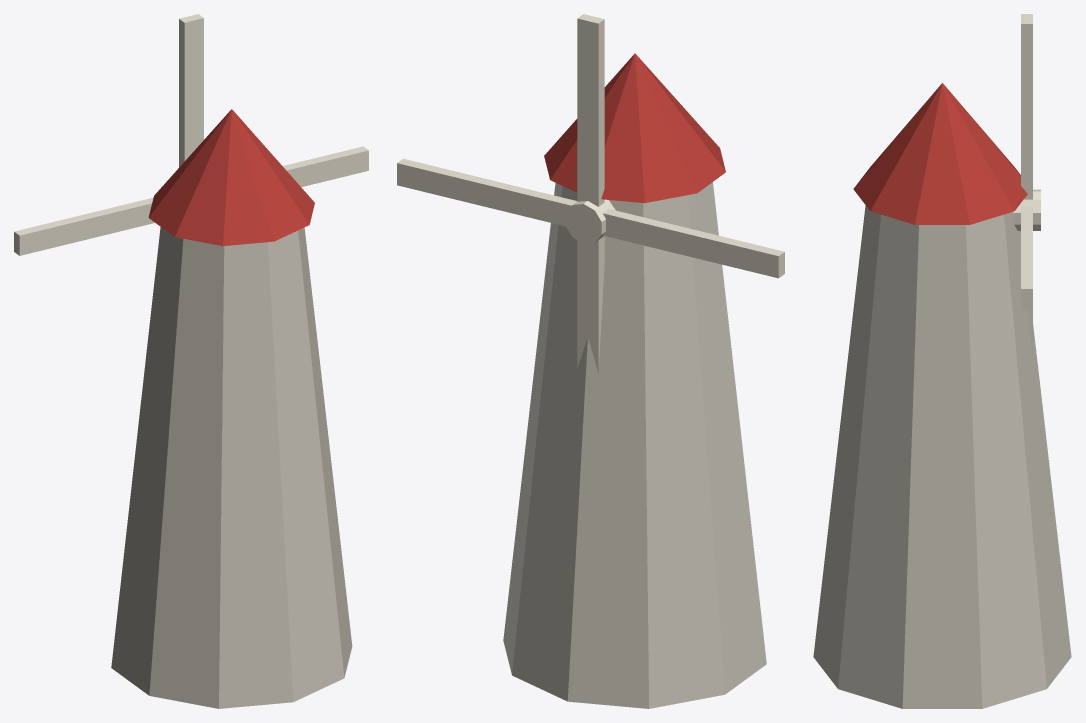
The model's file is windmill.glb.
3 renders of one model, left to right at view 1: azimuth 30°, elevation 25°; view 2: azimuth 150°, elevation 25°; view 3: azimuth 270°, elevation 25°, orthographic. The views are drawn at different scales.
Visible parts, largest first — view 1: Tower, Roof, Blade.003, Blade, Blade.001; view 2: Tower, Roof, Blade, Blade.003, Blade.001, Blade.002, Hub; view 3: Tower, Roof, Blade, Blade.001, Hub.
Part boxes in pixels (bbox=[...]): Tower: bbox=[111, 227, 352, 708]; Roof: bbox=[148, 109, 314, 245]; Blade.003: bbox=[14, 197, 154, 255]; Blade: bbox=[179, 14, 203, 167]; Blade.001: bbox=[283, 146, 368, 186]; Tower: bbox=[503, 182, 766, 708]; Roof: bbox=[544, 53, 725, 203]; Blade: bbox=[577, 14, 604, 206]; Blade.003: bbox=[603, 209, 784, 278]; Blade.001: bbox=[397, 158, 577, 226]; Blade.002: bbox=[577, 236, 604, 373]; Hub: bbox=[565, 199, 615, 243]; Tower: bbox=[813, 205, 1071, 708]; Roof: bbox=[853, 83, 1027, 224]; Blade: bbox=[1021, 14, 1032, 199]; Blade.001: bbox=[1021, 206, 1032, 310]; Hub: bbox=[1013, 189, 1040, 230].
Bounding box in the file's own units: 1.8 × 3 × 1.1.
